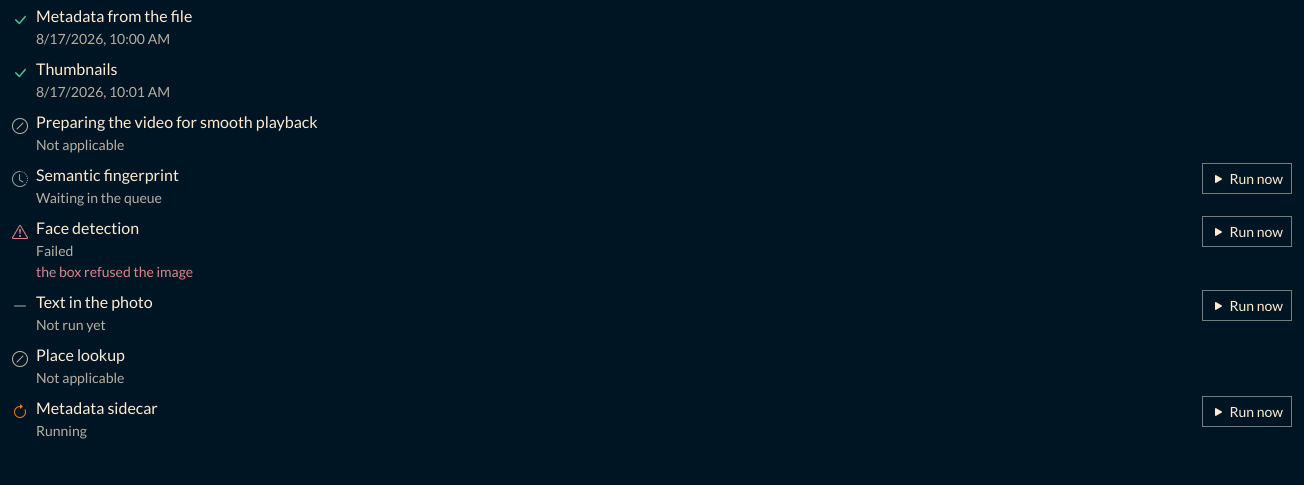
Test: ProcessingPanel › explains a refusal rather than silently doing nothing
This screenshot has width=1304, height=485.
Click the button "Run now" in the row of "Text in the photo".
click(1247, 306)  # box 1202,290 -> 1292,321
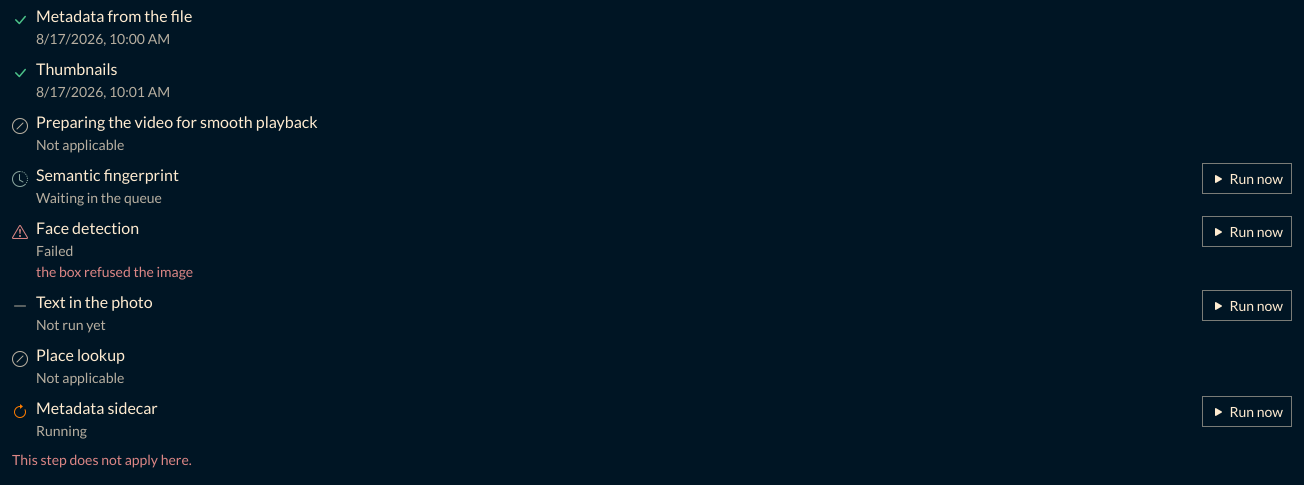
Check: the message reads "This step does not apply here.", box 12,451 -> 192,468
